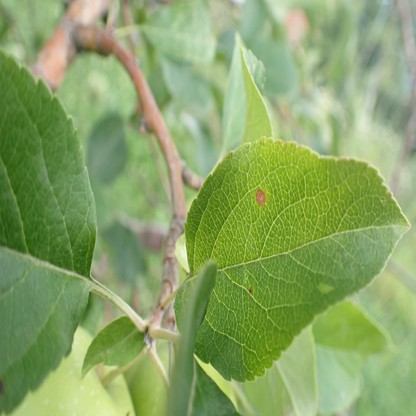frogeye_leaf_spot: (256, 189, 265, 206), (248, 288, 253, 293)
